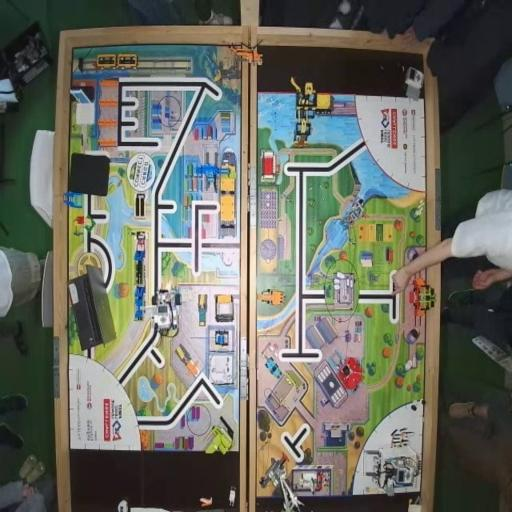lego_robot: (365, 449, 421, 497), (151, 287, 182, 338)
